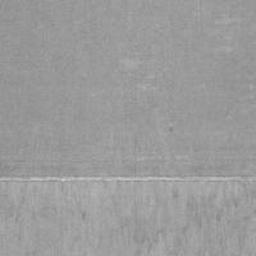Welding line: (0, 175, 256, 184)
